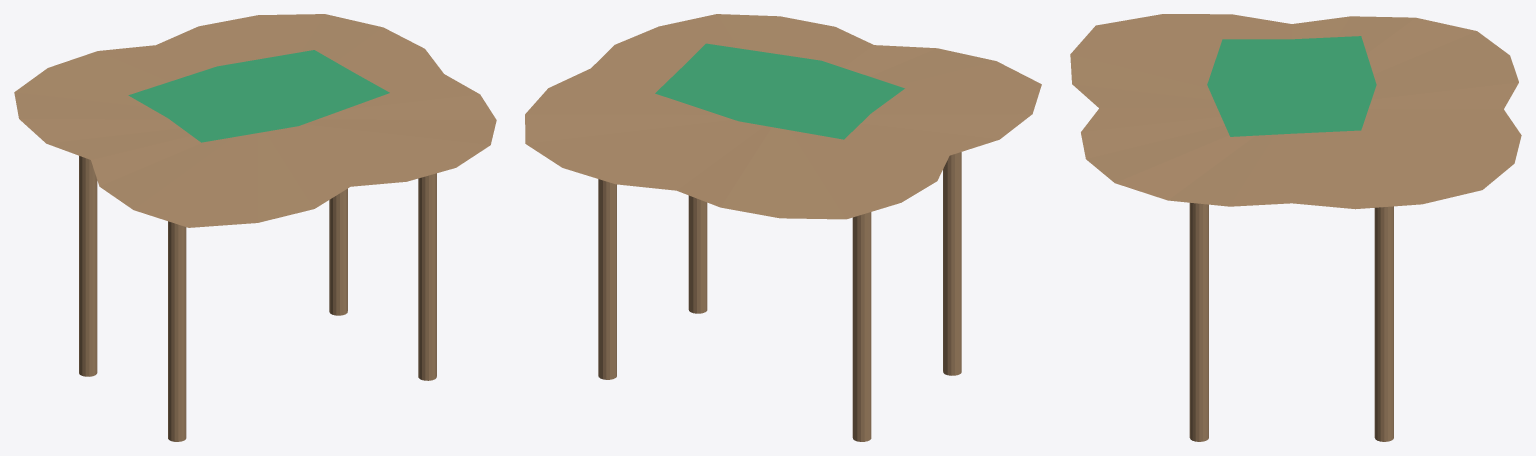
File: mesa_organica_v03.glb
The picture shows the model from 3 angles, left to right: view 1: azimuth 30°, elevation 25°; view 2: azimuth 150°, elevation 25°; view 3: azimuth 270°, elevation 25°; orthographic projection. The views are drawn at different scales.
Parts seen in each view (by area): view 1: Tapa_Organica_V3, Fieltro_V3, Pata_V1_1, Pata_V1_3, Pata_V1_2, Pata_V1_4; view 2: Tapa_Organica_V3, Fieltro_V3, Pata_V1_3, Pata_V1_1, Pata_V1_4, Pata_V1_2; view 3: Tapa_Organica_V3, Fieltro_V3, Pata_V1_2, Pata_V1_4.
Boxes of the visible parts, x1=… form: Tapa_Organica_V3: x1=14, y1=14, x2=496, y2=227; Fieltro_V3: x1=128, y1=50, x2=389, y2=142; Pata_V1_1: x1=168, y1=221, x2=186, y2=441; Pata_V1_3: x1=79, y1=156, x2=97, y2=376; Pata_V1_2: x1=418, y1=173, x2=436, y2=380; Pata_V1_4: x1=329, y1=188, x2=347, y2=315; Tapa_Organica_V3: x1=525, y1=14, x2=1041, y2=219; Fieltro_V3: x1=655, y1=43, x2=904, y2=139; Pata_V1_3: x1=852, y1=212, x2=871, y2=441; Pata_V1_1: x1=943, y1=152, x2=961, y2=375; Pata_V1_4: x1=598, y1=179, x2=616, y2=379; Pata_V1_2: x1=688, y1=195, x2=707, y2=313; Tapa_Organica_V3: x1=1070, y1=14, x2=1521, y2=209; Fieltro_V3: x1=1207, y1=36, x2=1376, y2=136; Pata_V1_2: x1=1189, y1=202, x2=1208, y2=441; Pata_V1_4: x1=1374, y1=206, x2=1393, y2=441.
Bounding box in the file's own units: 1.2 × 0.829 × 1.17.
